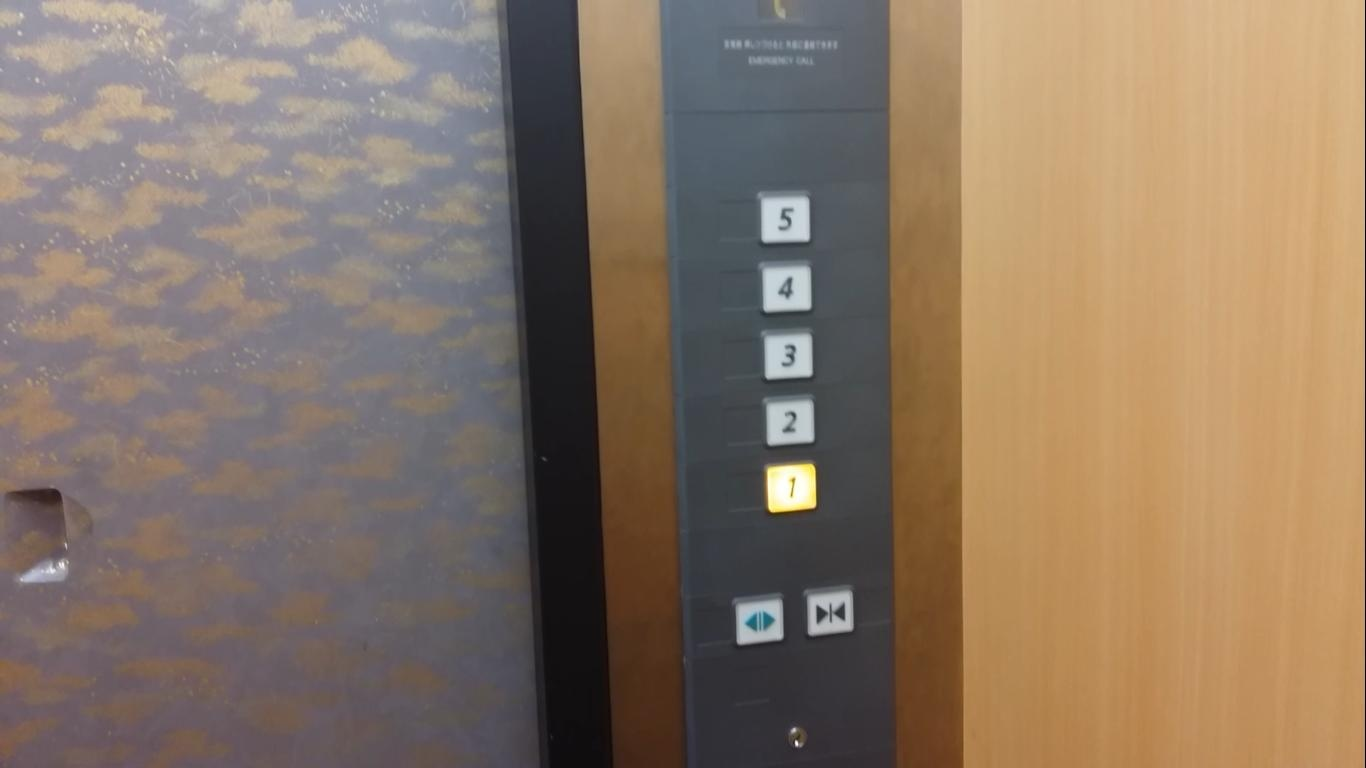1: (766, 461, 818, 517)
2: (763, 394, 818, 451)
3: (759, 327, 816, 383)
4: (757, 260, 816, 315)
5: (758, 189, 813, 247)
close: (804, 584, 857, 641)
keyhole: (788, 725, 808, 751)
open: (731, 592, 788, 649)
